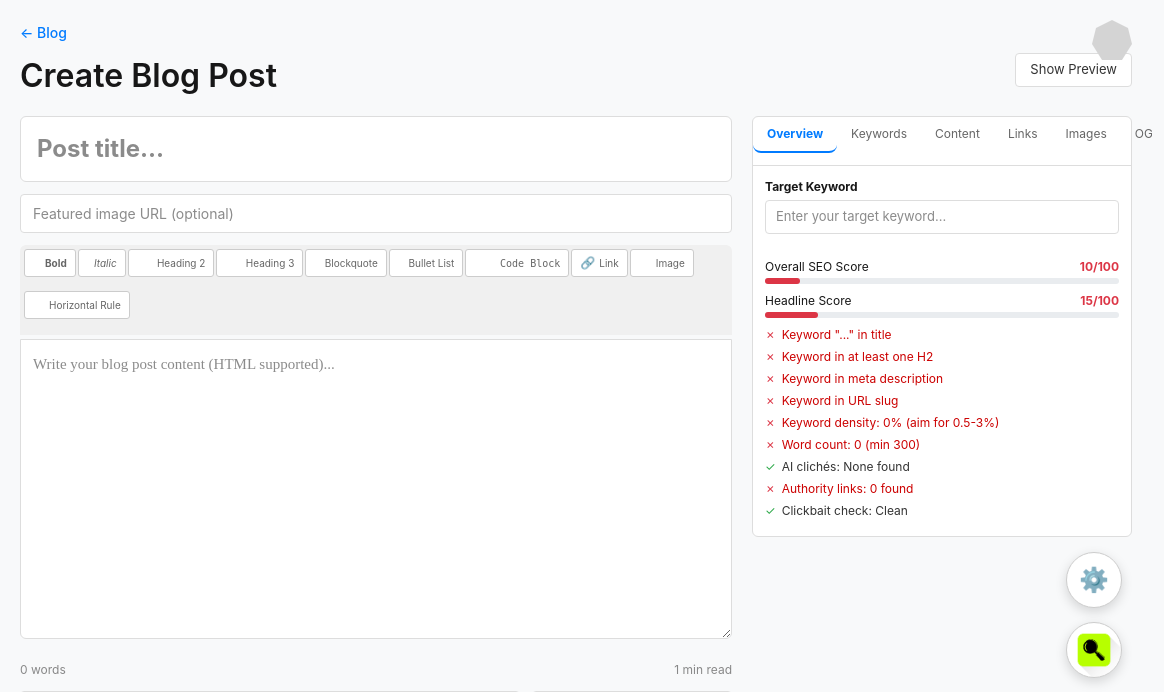
it: BlogEditorPage › shows word count and reading time
Type "one two three four five" into the text box with test id "blog-content" at (376,489), box left=20, top=339, right=732, bottom=639
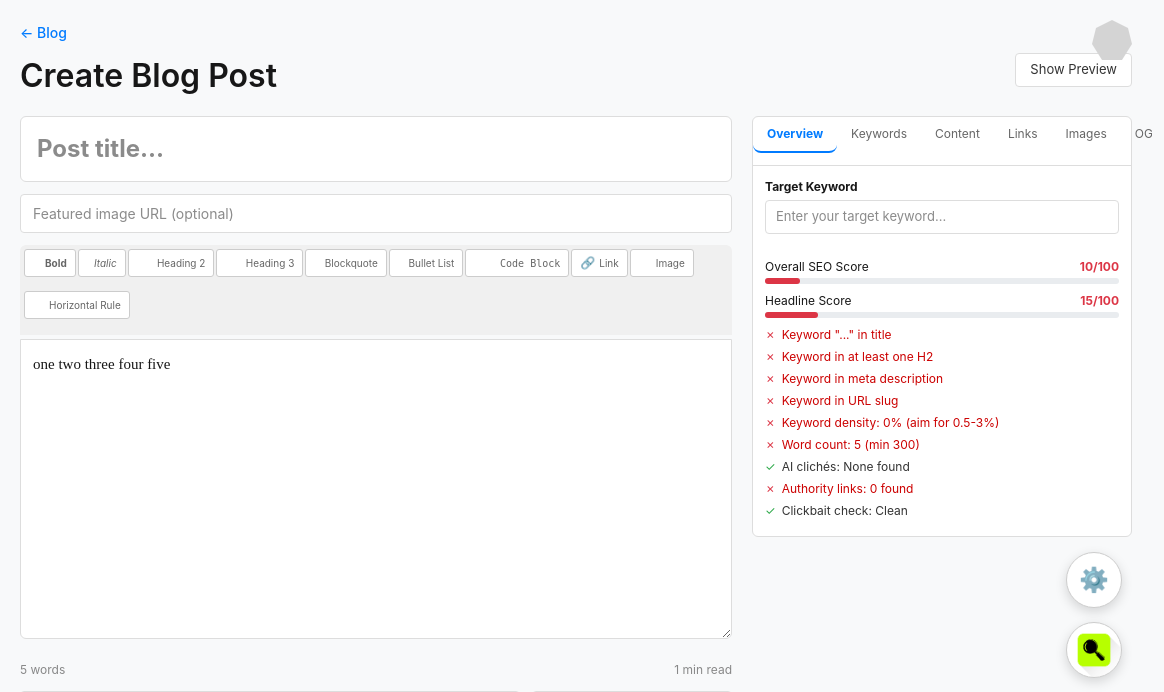
expect the text "1 min read" is shown: met, box left=674, top=661, right=732, bottom=679
expect the text "5 words" is shown: met, box left=20, top=661, right=65, bottom=679
